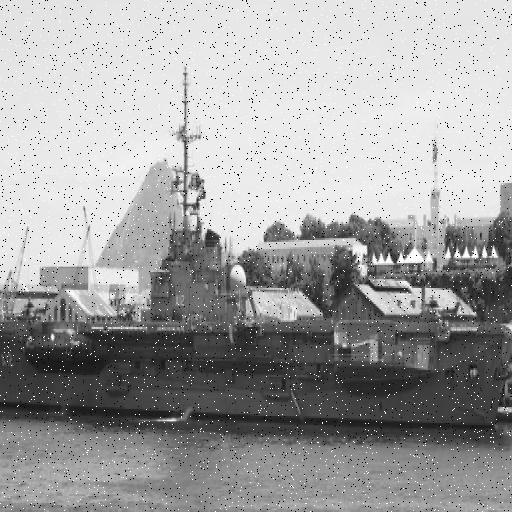Portanaves: (1, 51, 512, 442)
